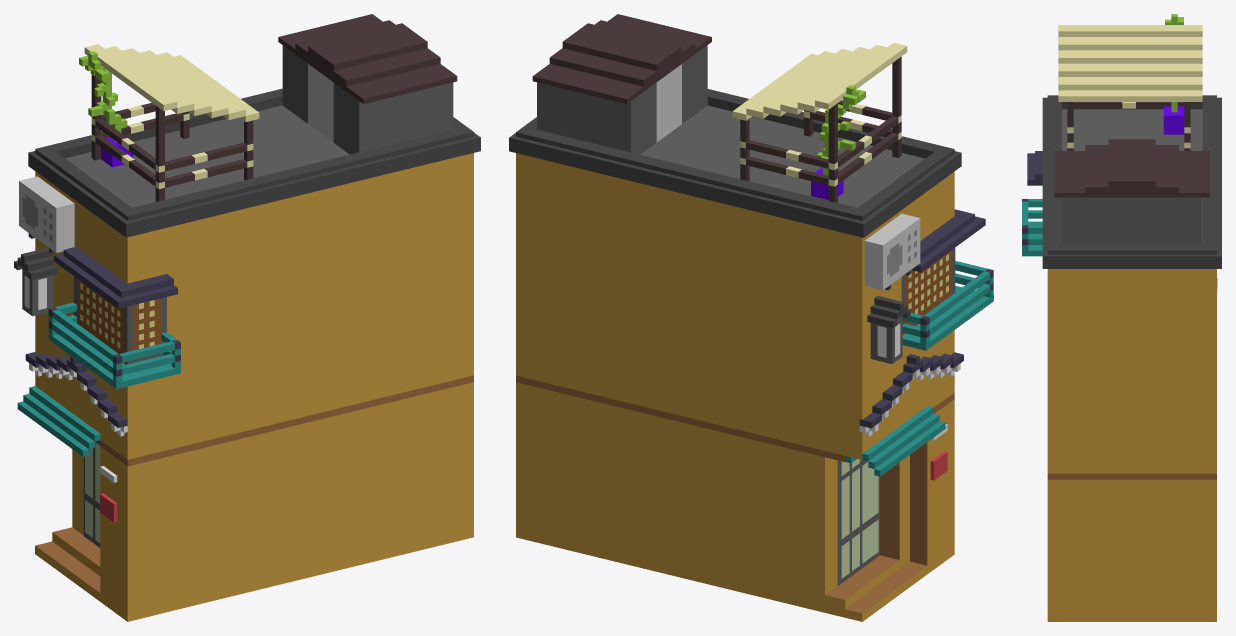
Rendered from Building_1.FBX.
The picture shows the model from 3 angles, left to right: view 1: azimuth 30°, elevation 25°; view 2: azimuth 150°, elevation 25°; view 3: azimuth 270°, elevation 25°; orthographic projection. The views are drawn at different scales.
Parts seen in each view (by area): view 1: Building_1; view 2: Building_1; view 3: Building_1.
Part boxes in pixels (<box>): Building_1: <box>14,14,480,621</box>; Building_1: <box>509,14,993,621</box>; Building_1: <box>1022,14,1221,621</box>.
Size of the model in its own units: 127 by 164 by 63.48.
1 material, 1 textured.
